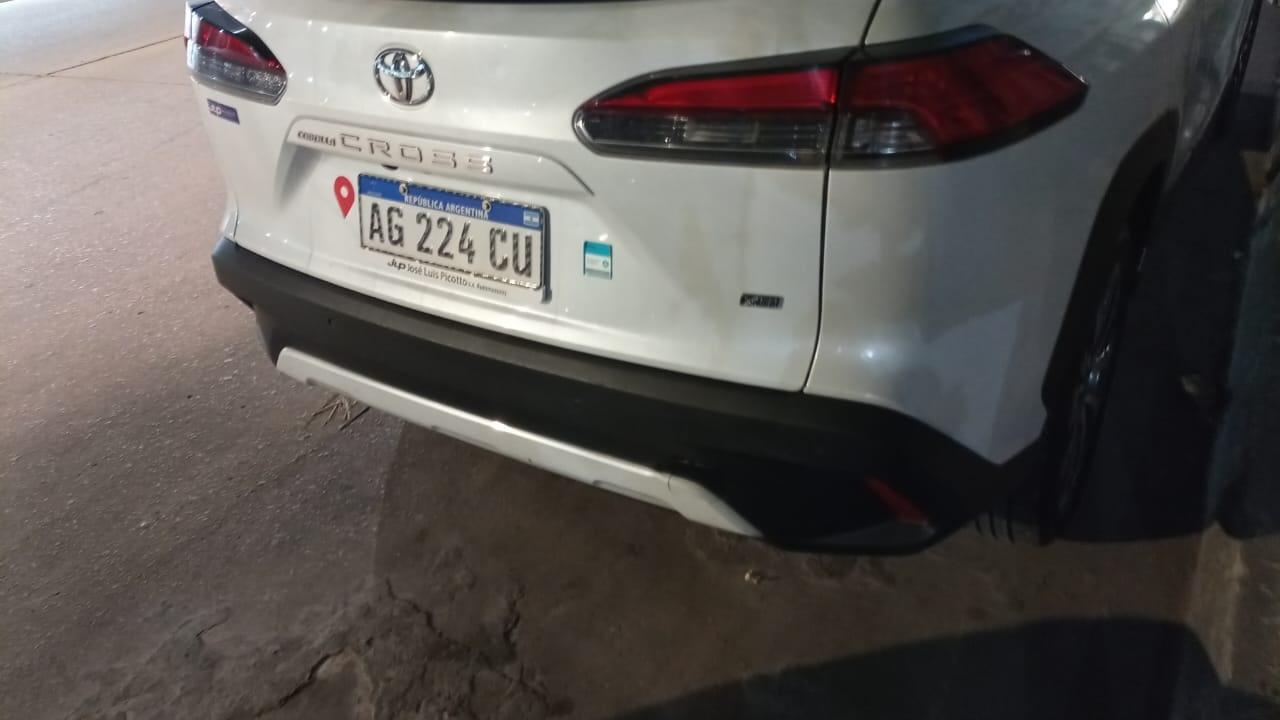matricula: (344, 172, 552, 299)
